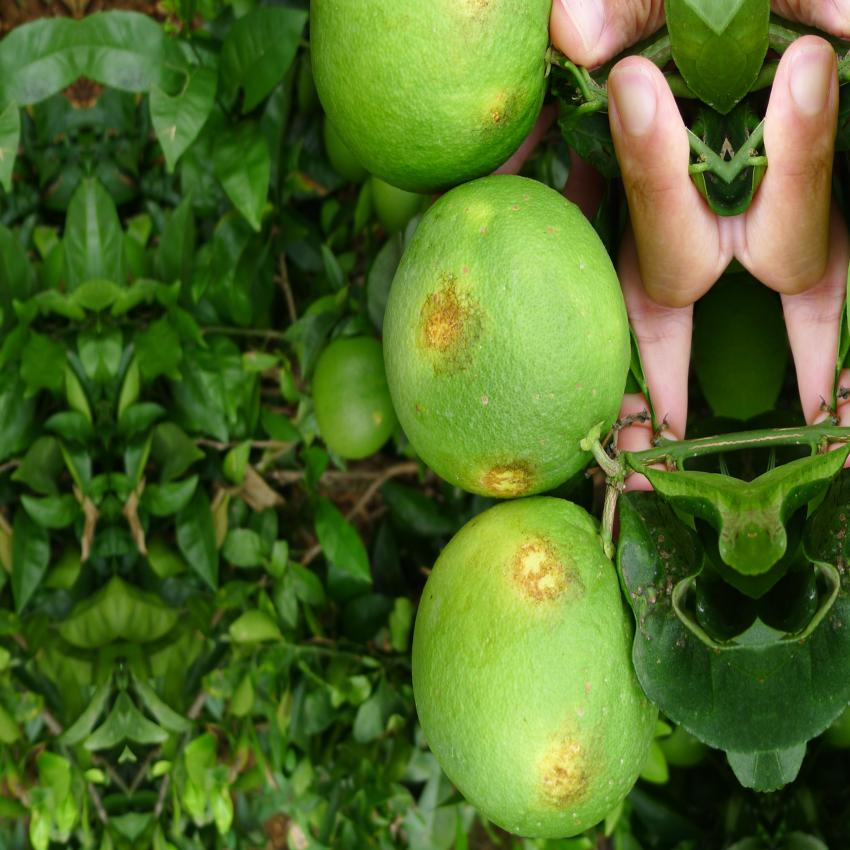Mal estado: (355, 162, 638, 514), (384, 481, 664, 832), (298, 0, 562, 177)
